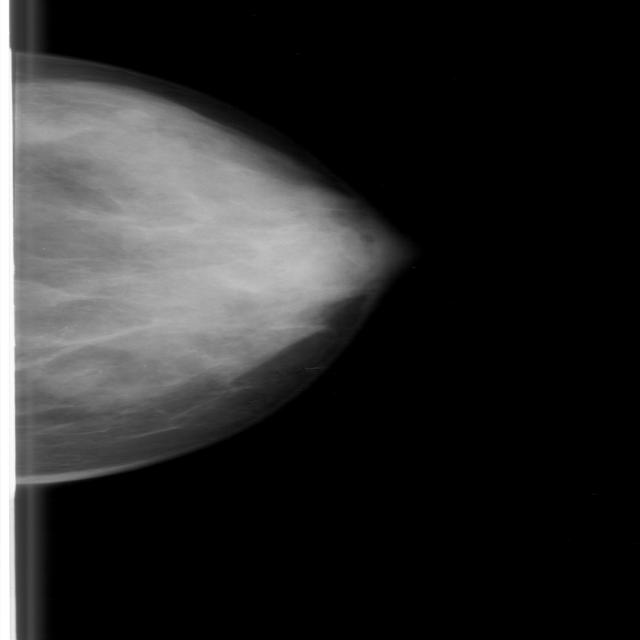normal: (0, 10, 407, 491)
